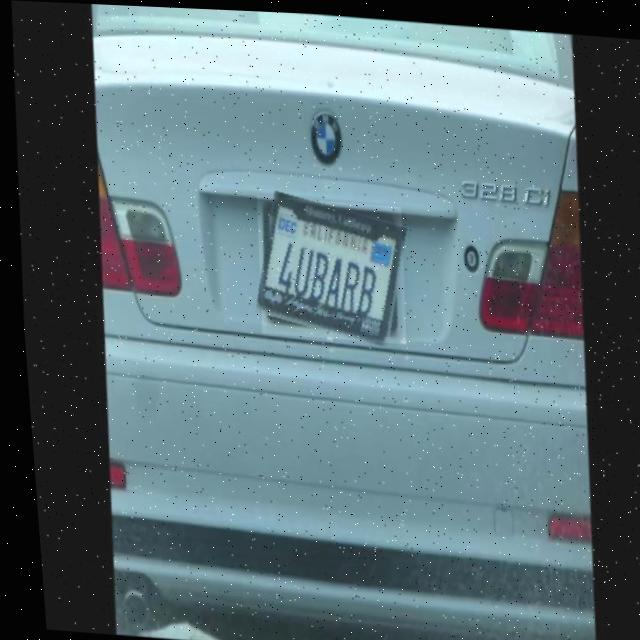LicensePlate: (248, 192, 406, 340)
